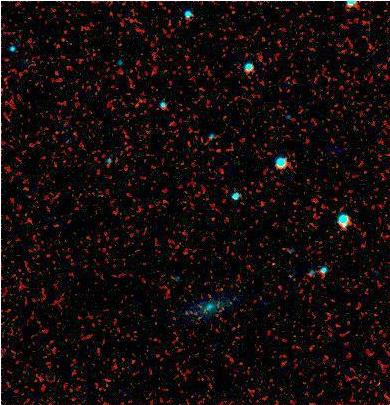star: (327, 217, 357, 247)
